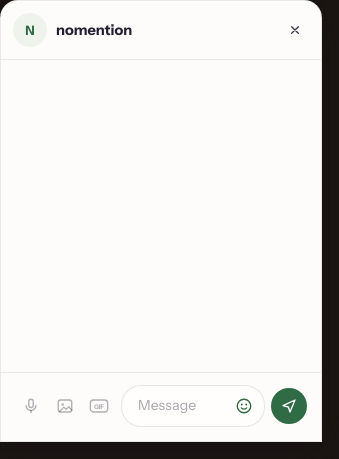
Test: ConversationView (real mode, status indicators) › @mentions › manually typed @text that was never selected from autocomplete sends as plain text
Type "hi @randomtext" into the text box with placeholder "Message" at (175, 406), box left=122, top=386, right=228, bottom=426
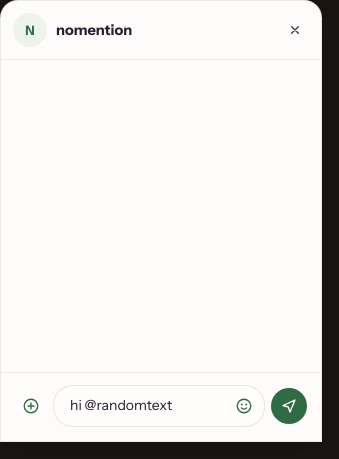
Click the button named "Send" at (289, 406), box left=271, top=388, right=307, bottom=424
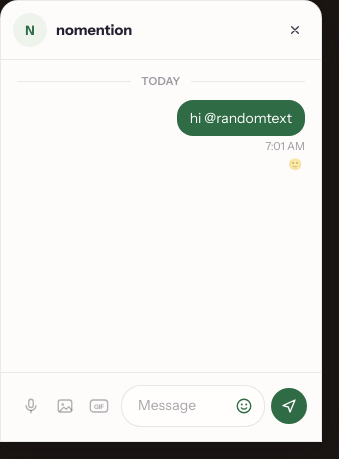
Check: the text "hi @randomtext" is shown, box left=177, top=100, right=305, bottom=136
